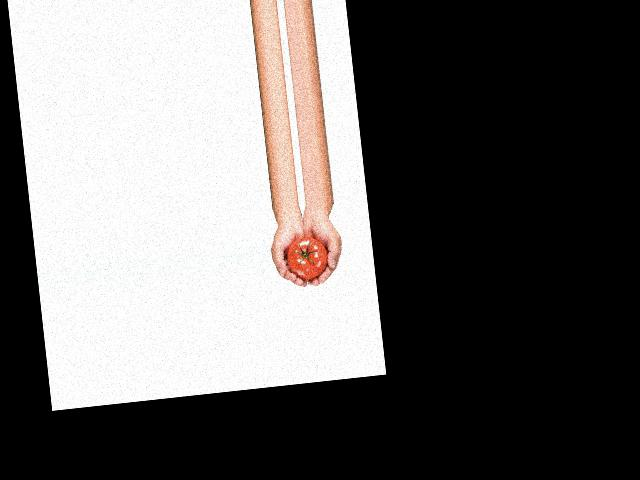tomato: (285, 235, 330, 280)
